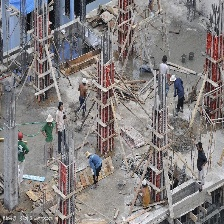person: (171, 72, 185, 116), (77, 77, 91, 121), (85, 151, 103, 185), (43, 115, 55, 163), (18, 133, 28, 181)
